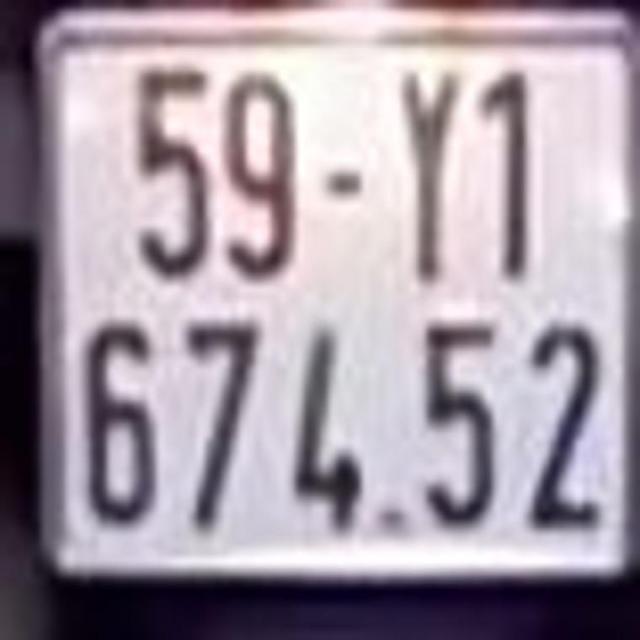1: (476, 63, 536, 280)
2: (526, 316, 606, 532)
4: (289, 314, 368, 535)
5: (128, 59, 214, 280), (419, 312, 501, 528)
6: (79, 312, 161, 528)
7: (179, 311, 261, 531)
9: (221, 64, 299, 282)
Y: (395, 59, 465, 284)
